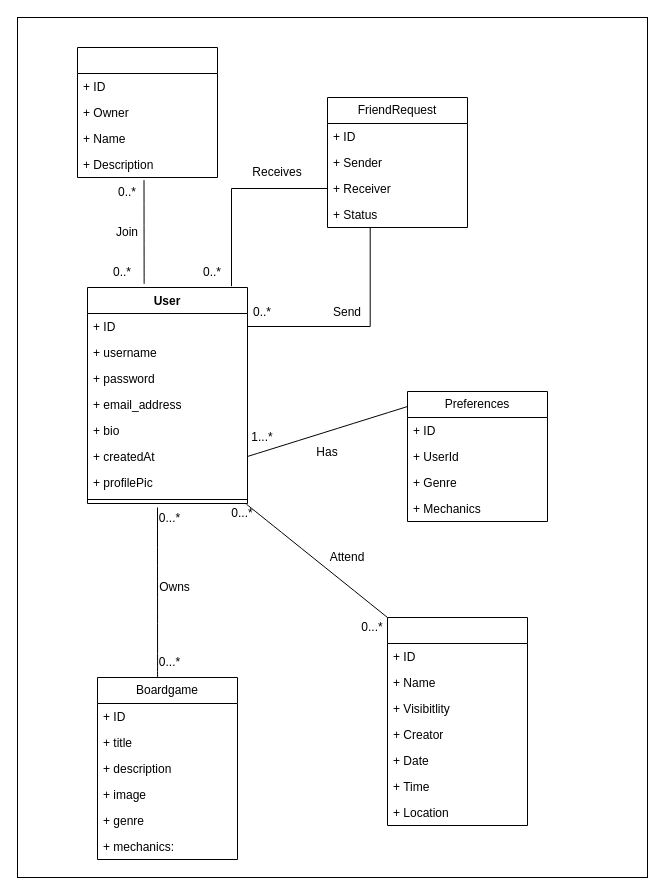
The diagram is 665 pixels wide and 895 high, and some of its shapes have lost their labels. The box of each missing label's shape, as (x1, y1, x2, y2) in pixels:
Event: (386, 616, 528, 826)
Group: (76, 46, 218, 178)
